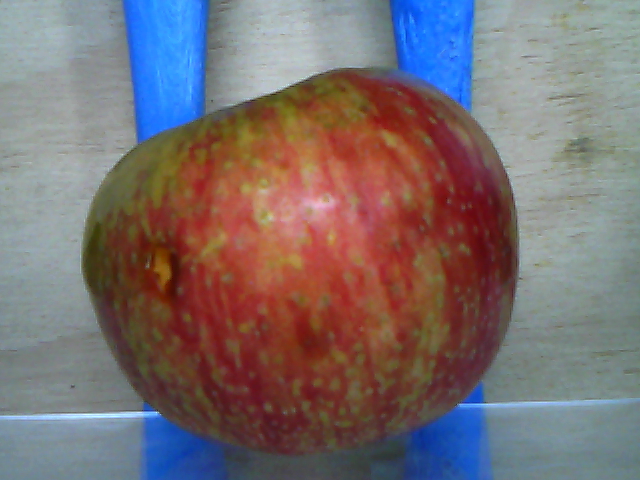puncture: (150, 251, 176, 298)
